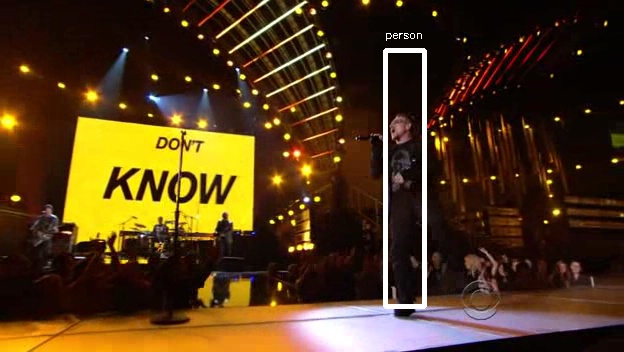person: (371, 112, 438, 223), (368, 112, 435, 223), (374, 112, 441, 223), (371, 109, 438, 220), (371, 115, 438, 226)
target_negative: (300, 31, 602, 222), (48, 271, 553, 323), (269, 184, 526, 249), (54, 289, 297, 334), (192, 69, 338, 75)
